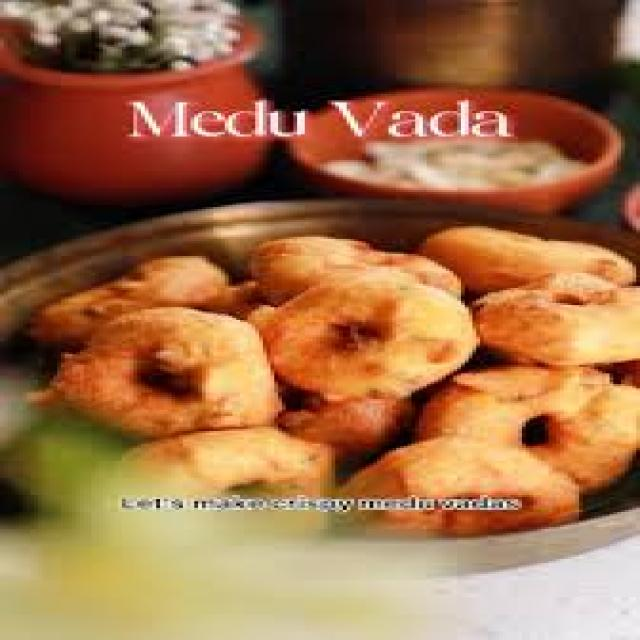MEDU VADA: (53, 309, 278, 435), (415, 365, 636, 493), (259, 271, 469, 401)
